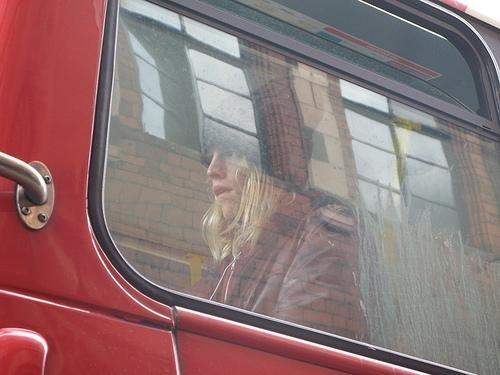bus: (40, 2, 499, 372)
